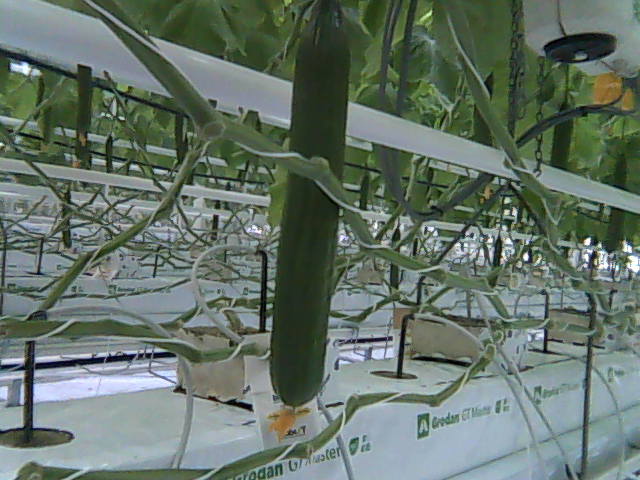concombre: (265, 1, 355, 441)
